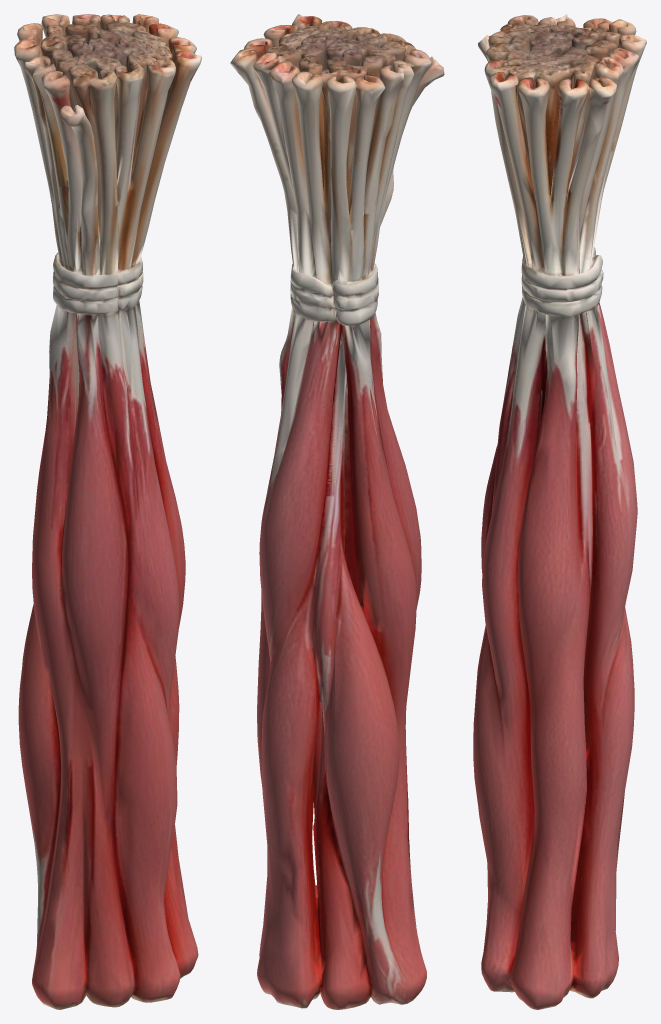
The model's file is forearm-extensors.glb.
3 renders of one model, left to right at view 1: azimuth 30°, elevation 25°; view 2: azimuth 150°, elevation 25°; view 3: azimuth 270°, elevation 25°, orthographic.
Parts seen in each view (by area): view 1: forearm-extensors; view 2: forearm-extensors; view 3: forearm-extensors.
Boxes of the visible parts, x1,y1,x2,y2 form: forearm-extensors: [14, 14, 201, 1009]; forearm-extensors: [230, 14, 444, 1009]; forearm-extensors: [473, 14, 646, 1009].
Bounding box in the file's own units: 0.1776 × 1 × 0.1688.
Materials: 1 (1 with a texture image).
